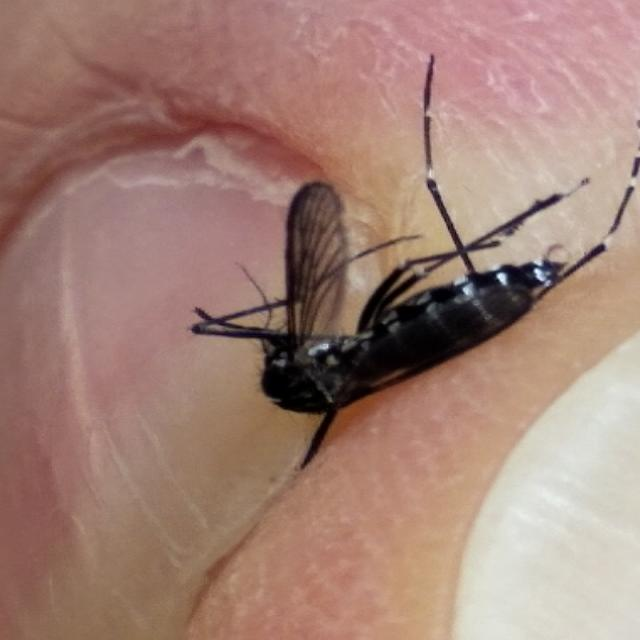albopictus: (171, 50, 640, 470)
